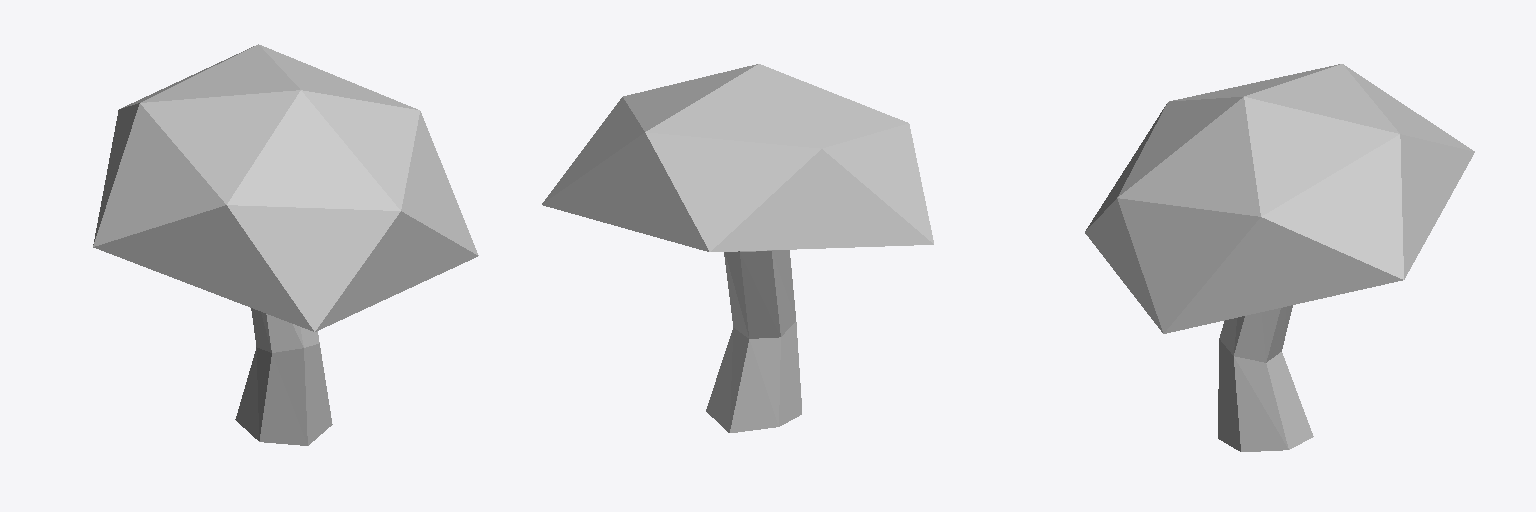
The model's file is mushroom_2.obj.
The picture shows the model from 3 angles: view 1: azimuth 30°, elevation 25°; view 2: azimuth 150°, elevation 25°; view 3: azimuth 270°, elevation 25°; orthographic projection.
Parts seen in each view (by area): view 1: mushroom_2; view 2: mushroom_2; view 3: mushroom_2.
Boxes of the visible parts, <box> form: mushroom_2: <box>93,44,478,445</box>; mushroom_2: <box>542,64,933,432</box>; mushroom_2: <box>1085,64,1474,451</box>.
Bounding box in the file's own units: 0.5342 × 0.5344 × 0.5485.